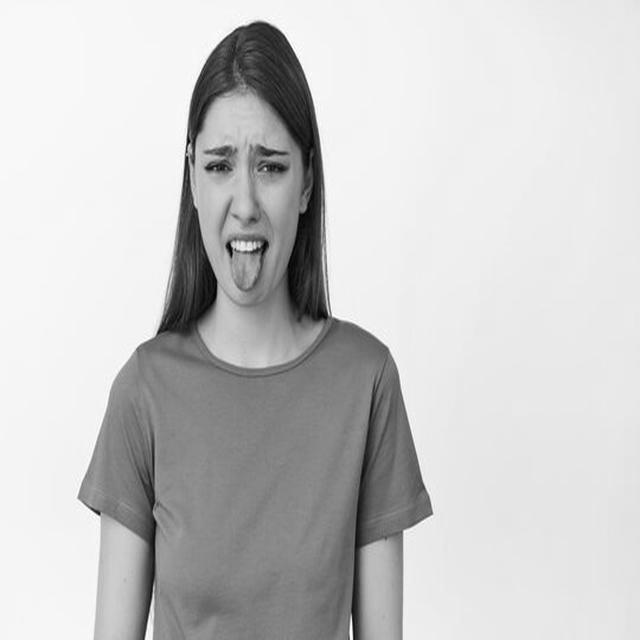Disgust: (191, 88, 307, 309)
